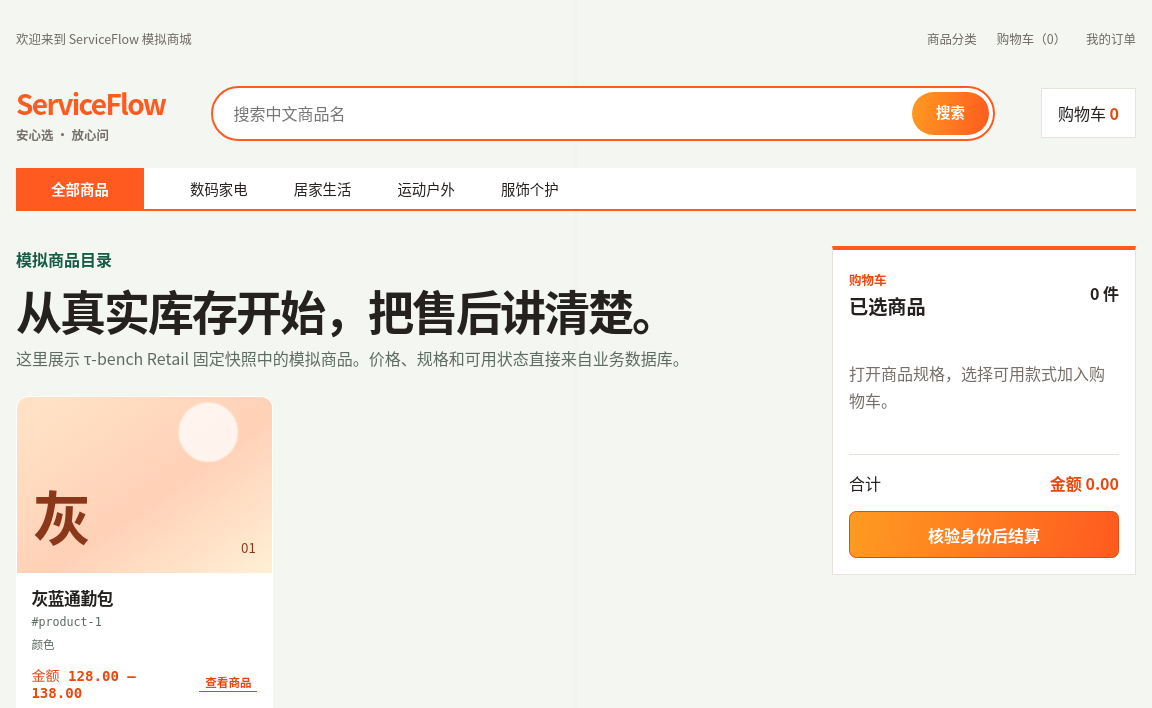
Scenario: SupportPage identity and orders › opens product detail through the product detail API
What coordinates should you click on to do the following:
click the button "查看商品"
I would click on:
 (228, 683)
Its box is [199,673,257,692].
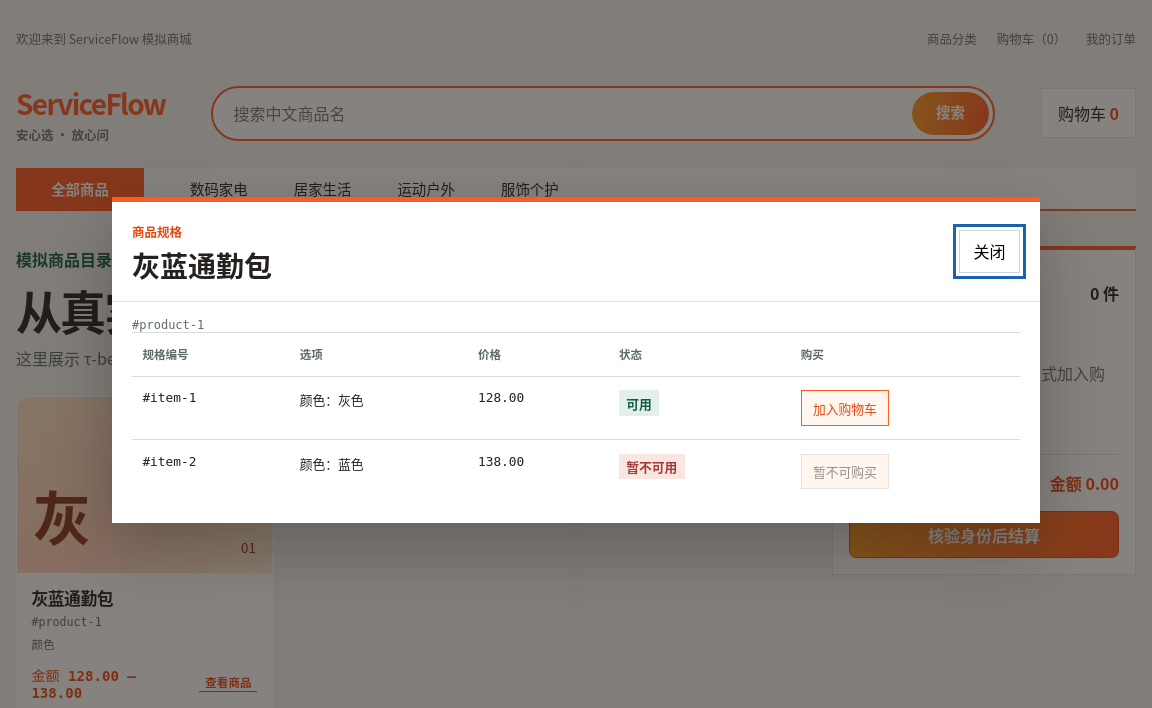
Now the dialog "灰蓝通勤包" is shown, box [112,197,1040,523]
Now the element named "商品 灰蓝通勤包 详情" shows "暂不可用", box [626,457,677,476]
